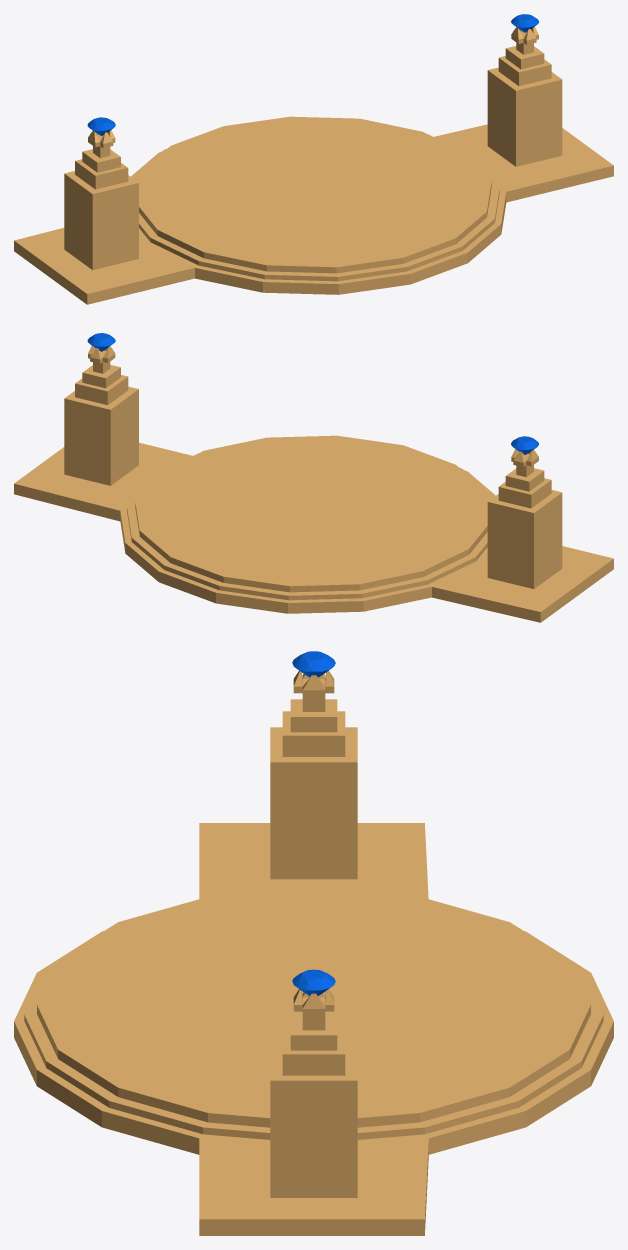
The model's file is SpawnPlase.fbx.
The picture shows the model from 3 angles, top to bottom: view 1: azimuth 30°, elevation 25°; view 2: azimuth 150°, elevation 25°; view 3: azimuth 270°, elevation 25°; orthographic projection. The views are drawn at different scales.
Parts seen in each view (by area): view 1: Cylinder.003; view 2: Cylinder.003; view 3: Cylinder.003.
Part boxes in pixels (bbox=[...]): Cylinder.003: bbox=[14, 14, 613, 304]; Cylinder.003: bbox=[14, 333, 613, 622]; Cylinder.003: bbox=[14, 651, 613, 1235].
Bounding box in the file's own units: 798 × 209 × 511.
